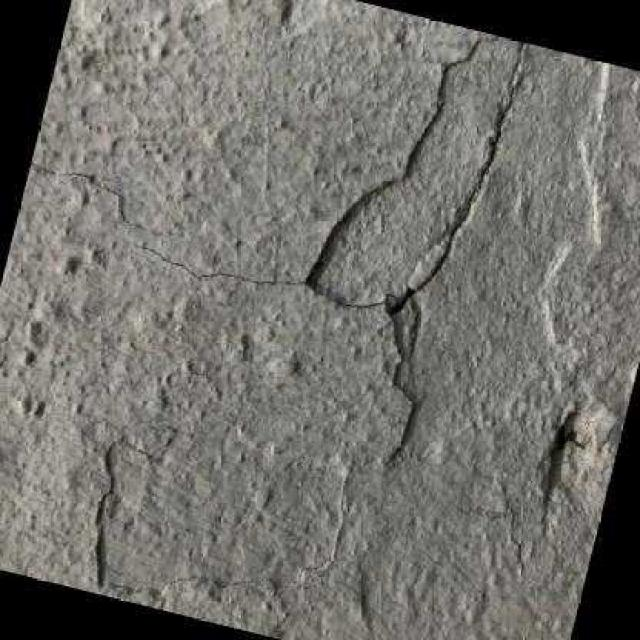D00: (28, 39, 534, 469)
